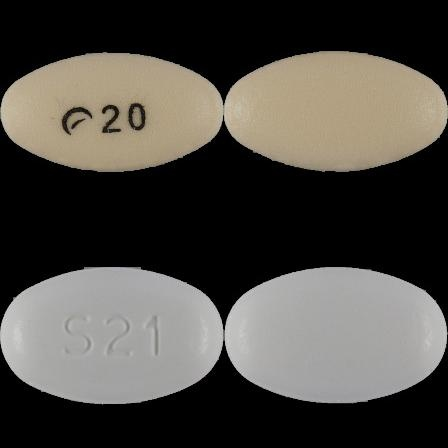63187-042: (0, 0, 224, 224)
